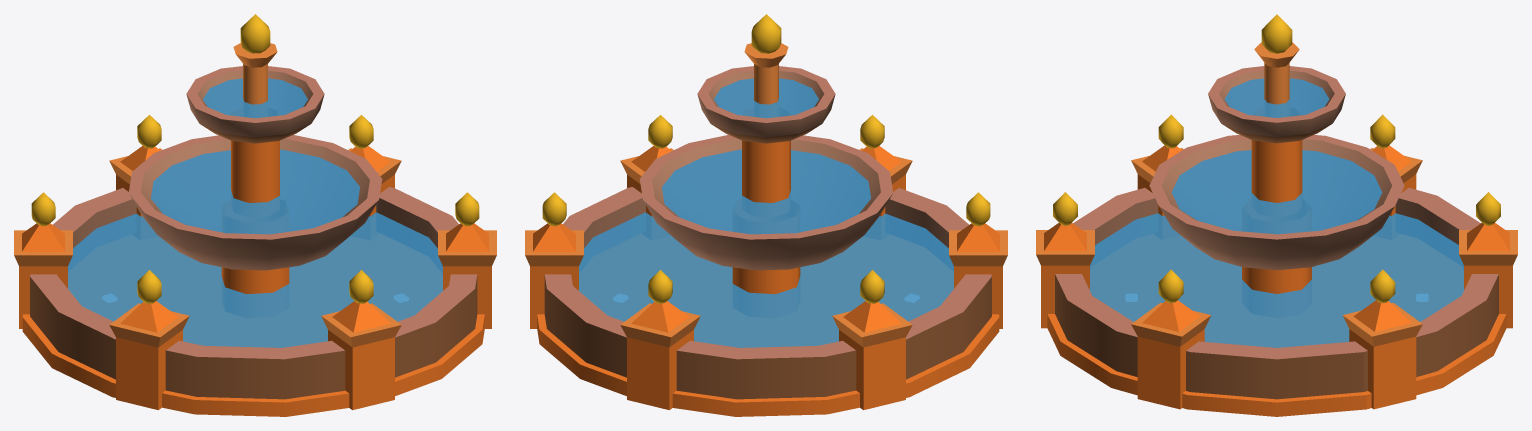
Rendered from fountain_03_pacote.glb.
3 renders of one model, left to right at view 1: azimuth 30°, elevation 25°; view 2: azimuth 150°, elevation 25°; view 3: azimuth 270°, elevation 25°, orthographic.
Visible parts, largest first — view 1: fountain_03_pacote; view 2: fountain_03_pacote; view 3: fountain_03_pacote.
Part boxes in pixels (box(x1,y1,x2,y2)): fountain_03_pacote: box(14, 14, 496, 416); fountain_03_pacote: box(525, 14, 1007, 416); fountain_03_pacote: box(1036, 14, 1517, 416).
Bounding box in the file's own units: 5.89 × 4.23 × 6.05.
3 materials, 1 textured.
